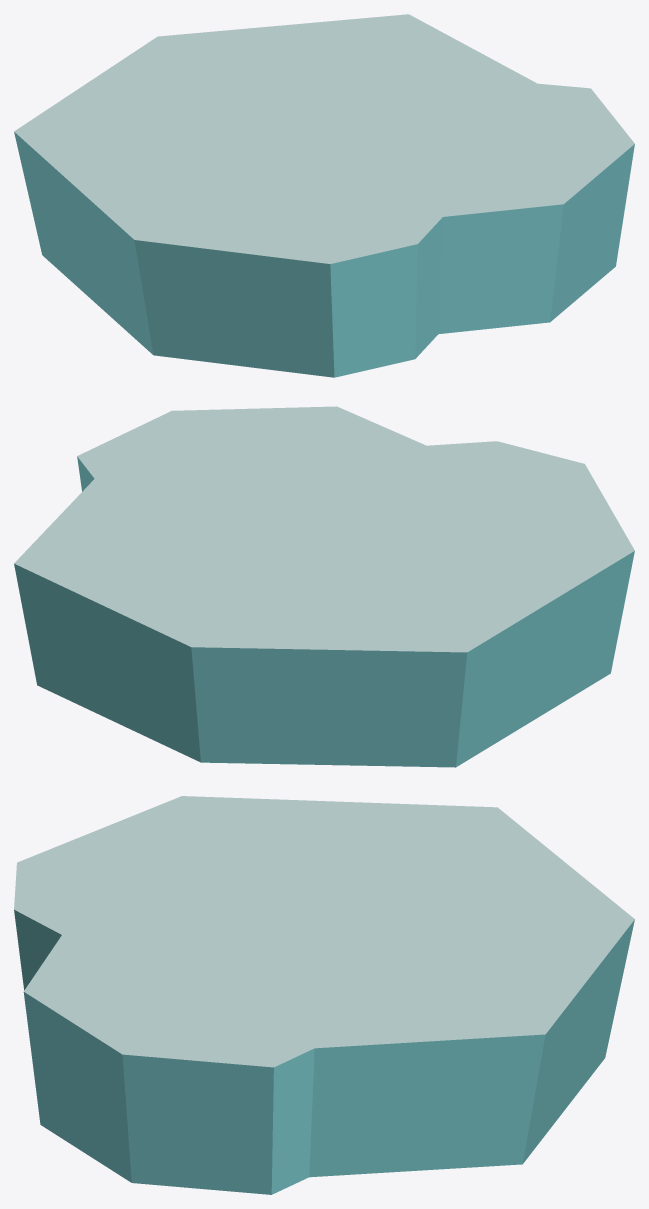
File: nature_floe.fbx
3 renders of one model, top to bottom at view 1: azimuth 30°, elevation 25°; view 2: azimuth 150°, elevation 25°; view 3: azimuth 270°, elevation 25°, orthographic. The views are drawn at different scales.
Parts seen in each view (by area): view 1: nature_floe; view 2: nature_floe; view 3: nature_floe.
Boxes of the visible parts, x1=… form: nature_floe: x1=14, y1=14, x2=634, y2=377; nature_floe: x1=14, y1=406, x2=634, y2=767; nature_floe: x1=14, y1=796, x2=634, y2=1194.
Size of the model in its own units: 200 by 46.92 by 193.
